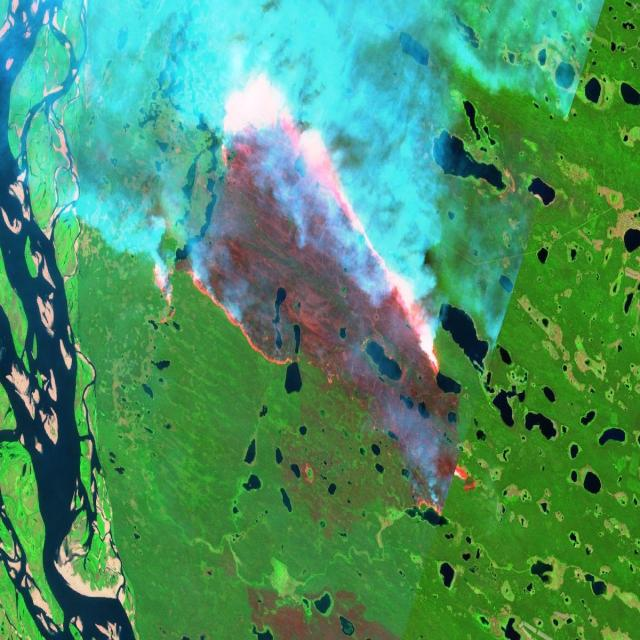fire: (152, 70, 441, 378), (412, 456, 478, 526)
